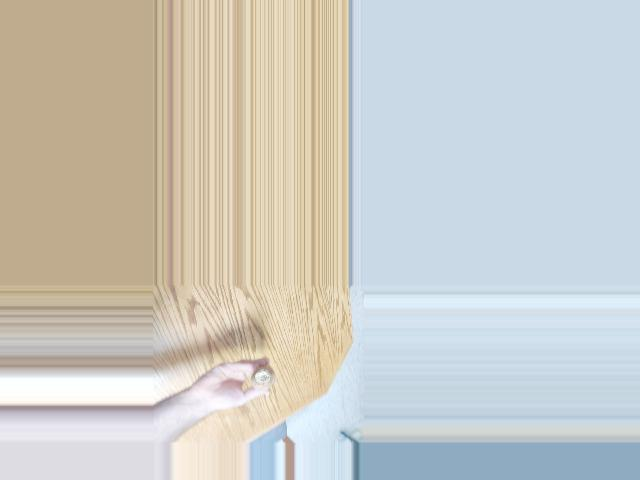sweet_potato: (250, 369, 281, 392)
